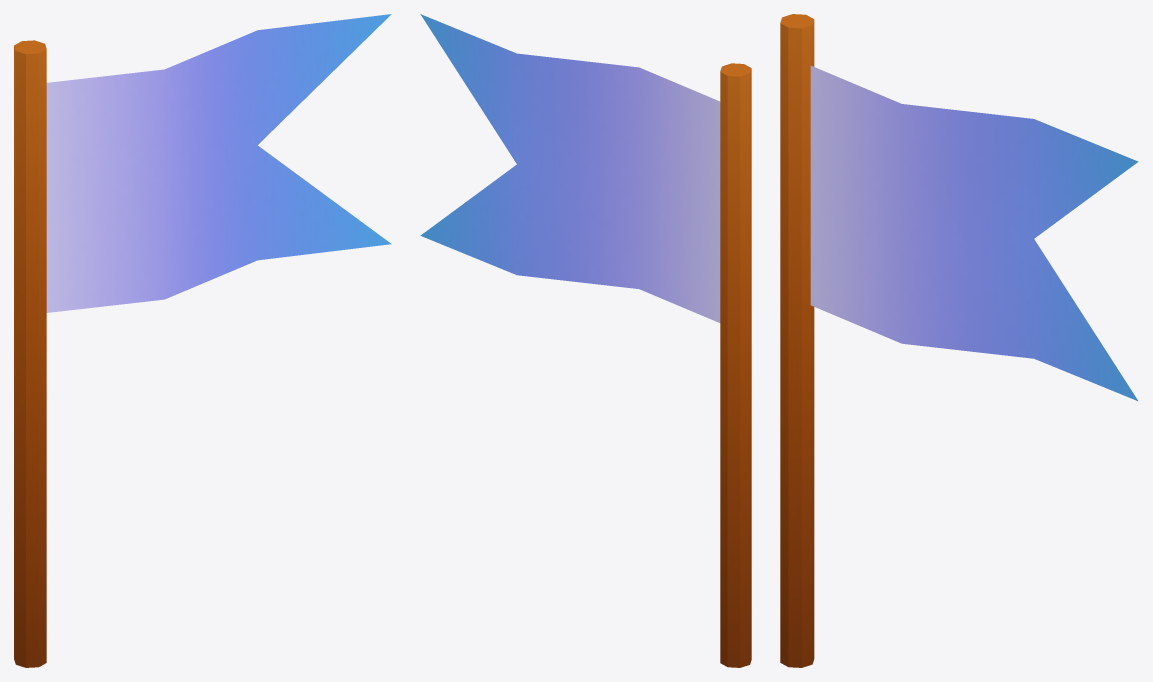
The model's file is flag.glb.
3 renders of one model, left to right at view 1: azimuth 30°, elevation 25°; view 2: azimuth 150°, elevation 25°; view 3: azimuth 330°, elevation 25°, orthographic. The views are drawn at different scales.
Visible parts, largest first — view 1: Cylinder; view 2: Cylinder; view 3: Cylinder.
Boxes of the visible parts, x1,y1,x2,y2 form: Cylinder: (14,14,391,667); Cylinder: (420,14,751,667); Cylinder: (780,14,1138,667).
Bounding box in the file's own units: 1.22 × 2 × 0.15.
Materials: 1 (1 with a texture image).
